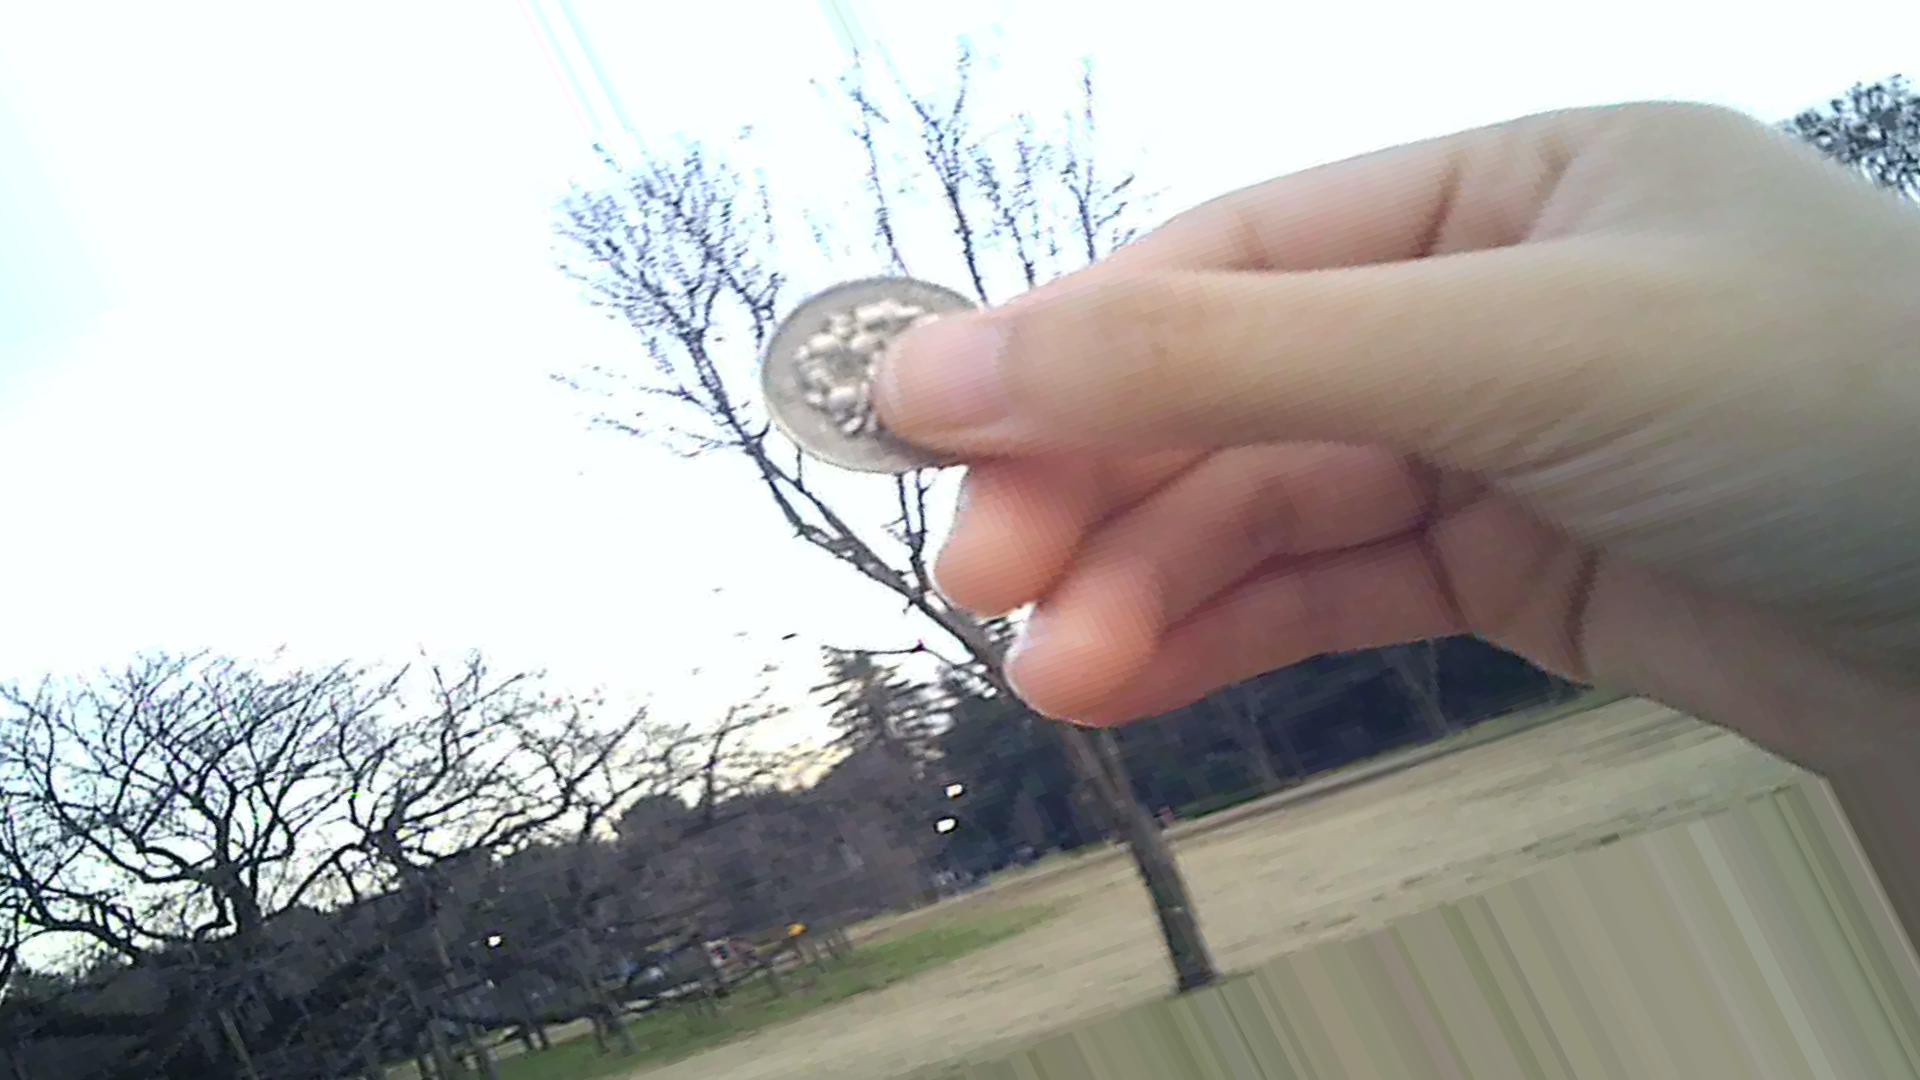100 Yen: (757, 276, 1023, 473)
